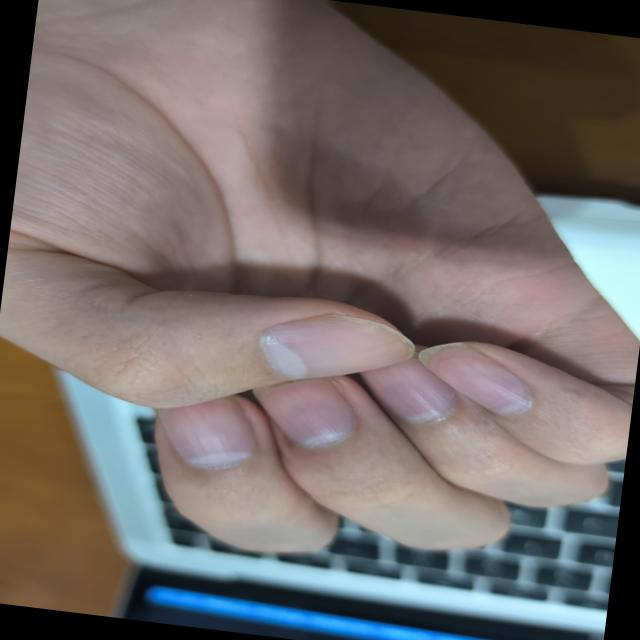Nail: (262, 312, 412, 377), (415, 342, 532, 412), (251, 377, 355, 444), (360, 351, 455, 421), (162, 396, 255, 466)
